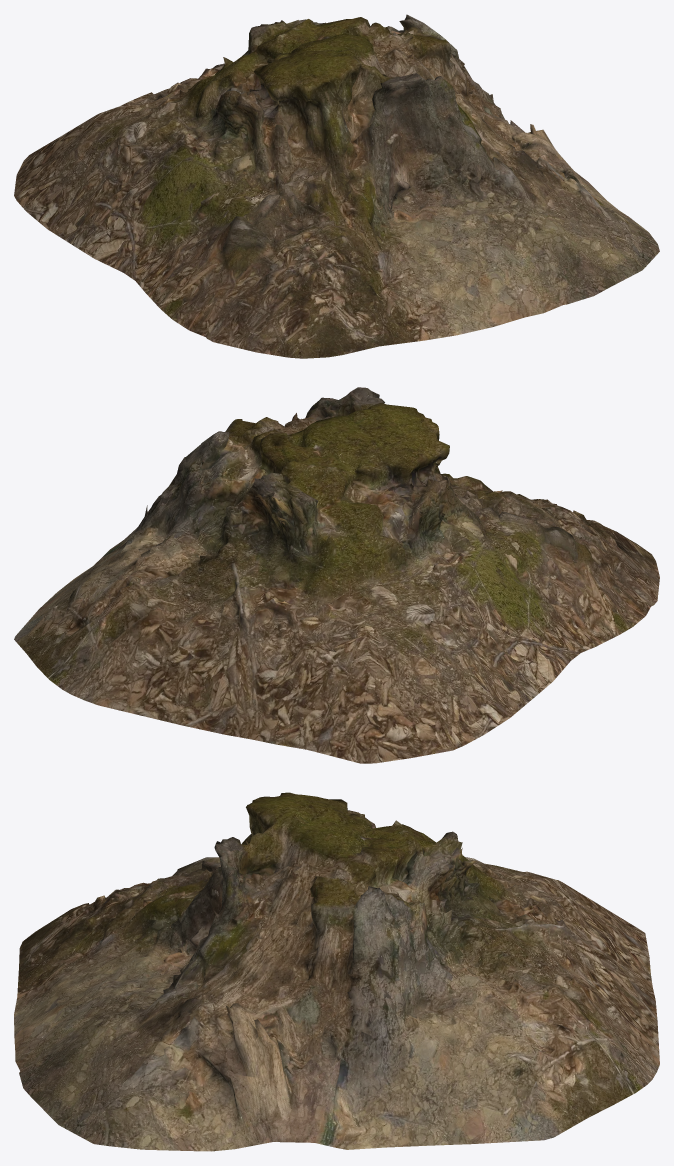
Rendered from tree_stump_01.glb.
3 views of the same model, one above another, from view 1: azimuth 30°, elevation 25°; view 2: azimuth 150°, elevation 25°; view 3: azimuth 270°, elevation 25° (orthographic). The views are drawn at different scales.
Visible parts, largest first — view 1: tree_stump_01; view 2: tree_stump_01; view 3: tree_stump_01.
Boxes of the visible parts, x1,y1,x2,y2 form: tree_stump_01: (14,14,659,358); tree_stump_01: (14,387,659,763); tree_stump_01: (14,792,659,1151).
Size of the model in its own units: 1.43 by 0.571 by 1.59.
1 material, 1 textured.
